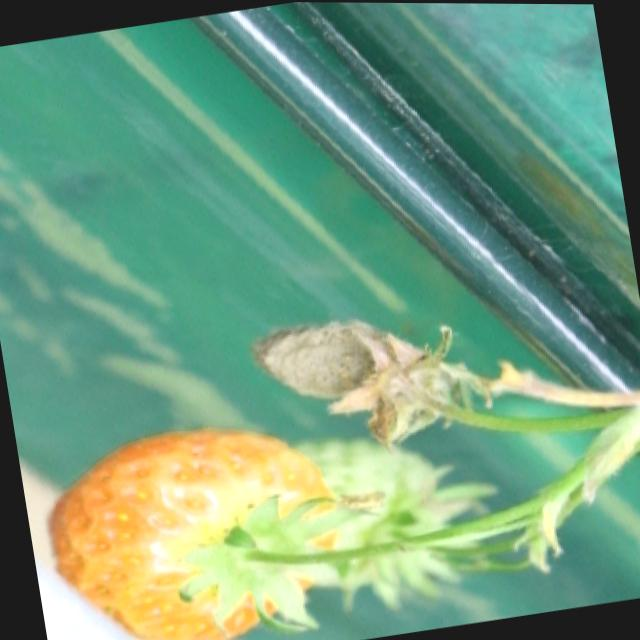Gray Mold: (251, 316, 494, 449)
